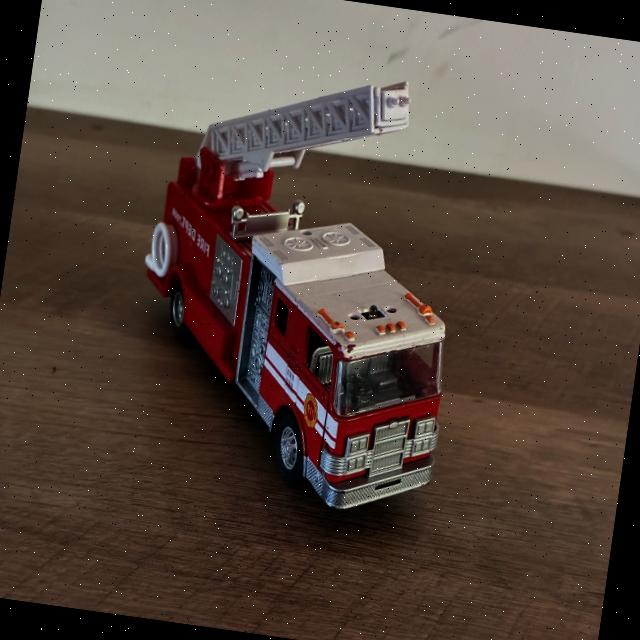fire-truck: (146, 82, 445, 510)
